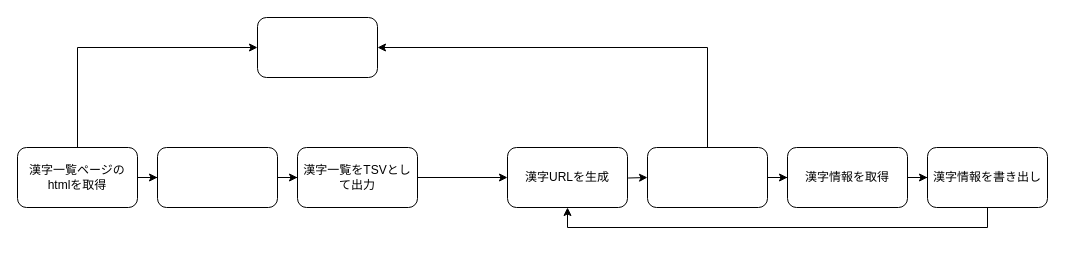
Some shapes in this 1065 by 253 pixel diagram are drawn without their labels. Each missing label, with the centre of its shape:
urlをbsオブジェクトに変換: point (317, 47)
漢字HTMLを取得: point (707, 177)
漢字一覧を取得: point (217, 177)
